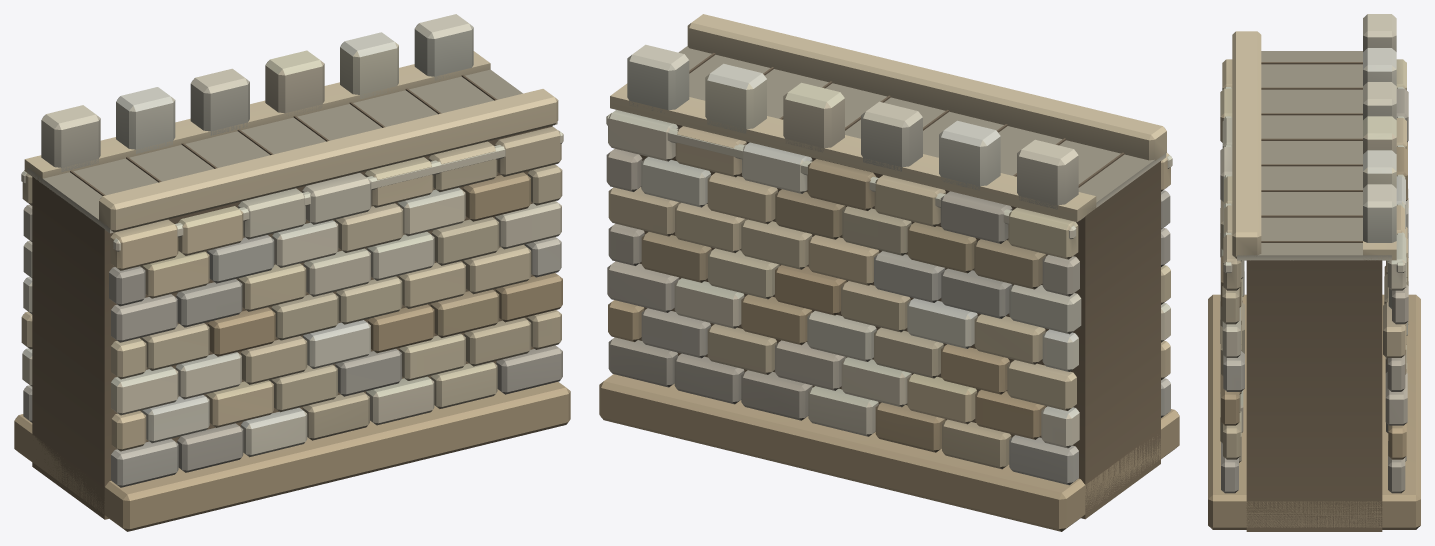
File: wall_segment.glb
3 views of the same model, side by side, from view 1: azimuth 30°, elevation 25°; view 2: azimuth 150°, elevation 25°; view 3: azimuth 270°, elevation 25° (orthographic). The views are drawn at different scales.
Visible parts, largest first — view 1: wall_segment; view 2: wall_segment; view 3: wall_segment.
Boxes of the visible parts, box(x1,y1,x2,y2) form: wall_segment: box(14, 14, 570, 531); wall_segment: box(599, 14, 1179, 531); wall_segment: box(1208, 14, 1420, 531).
Size of the model in its own units: 1 by 0.735 by 0.44.
